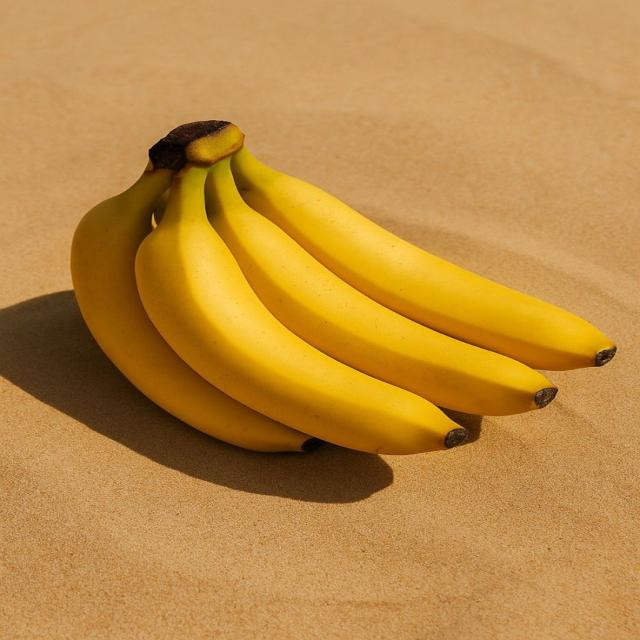unpeal banana: (136, 162, 466, 453), (206, 162, 557, 415), (232, 148, 615, 369), (71, 163, 318, 451)
